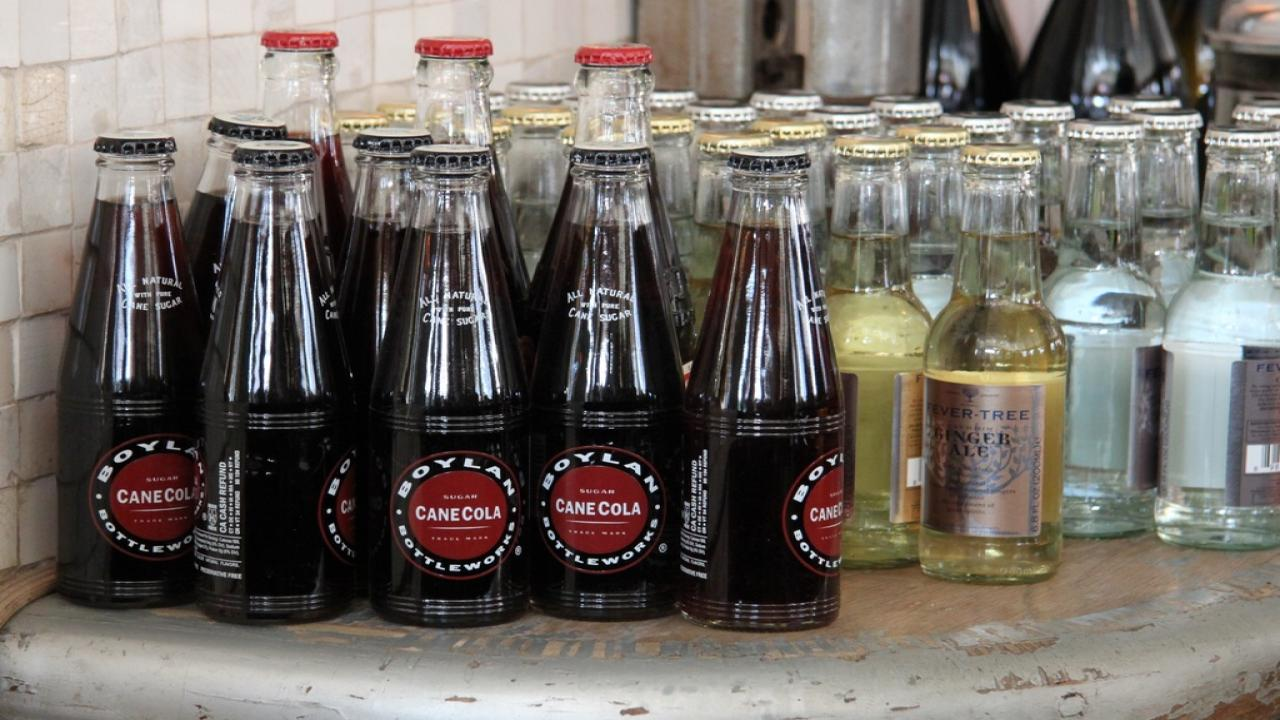bottle_cap: (404, 143, 496, 172), (722, 144, 812, 173), (204, 113, 288, 143), (230, 143, 318, 171), (938, 111, 1016, 141), (352, 126, 438, 153), (92, 132, 180, 158), (749, 89, 822, 120), (806, 104, 879, 135), (869, 97, 943, 127), (416, 35, 494, 63), (956, 144, 1043, 169), (687, 102, 758, 132), (578, 43, 652, 71), (832, 136, 912, 161), (566, 147, 656, 169), (1108, 93, 1183, 119), (695, 129, 769, 155), (1062, 118, 1148, 140), (892, 124, 970, 148), (1127, 106, 1203, 130), (1000, 99, 1074, 123), (497, 106, 572, 129), (262, 30, 340, 52), (1204, 126, 1280, 148), (503, 82, 572, 106), (760, 121, 826, 146), (1230, 100, 1280, 126), (334, 112, 390, 135), (646, 89, 698, 112), (646, 115, 696, 136), (490, 119, 512, 142), (558, 125, 578, 145)
